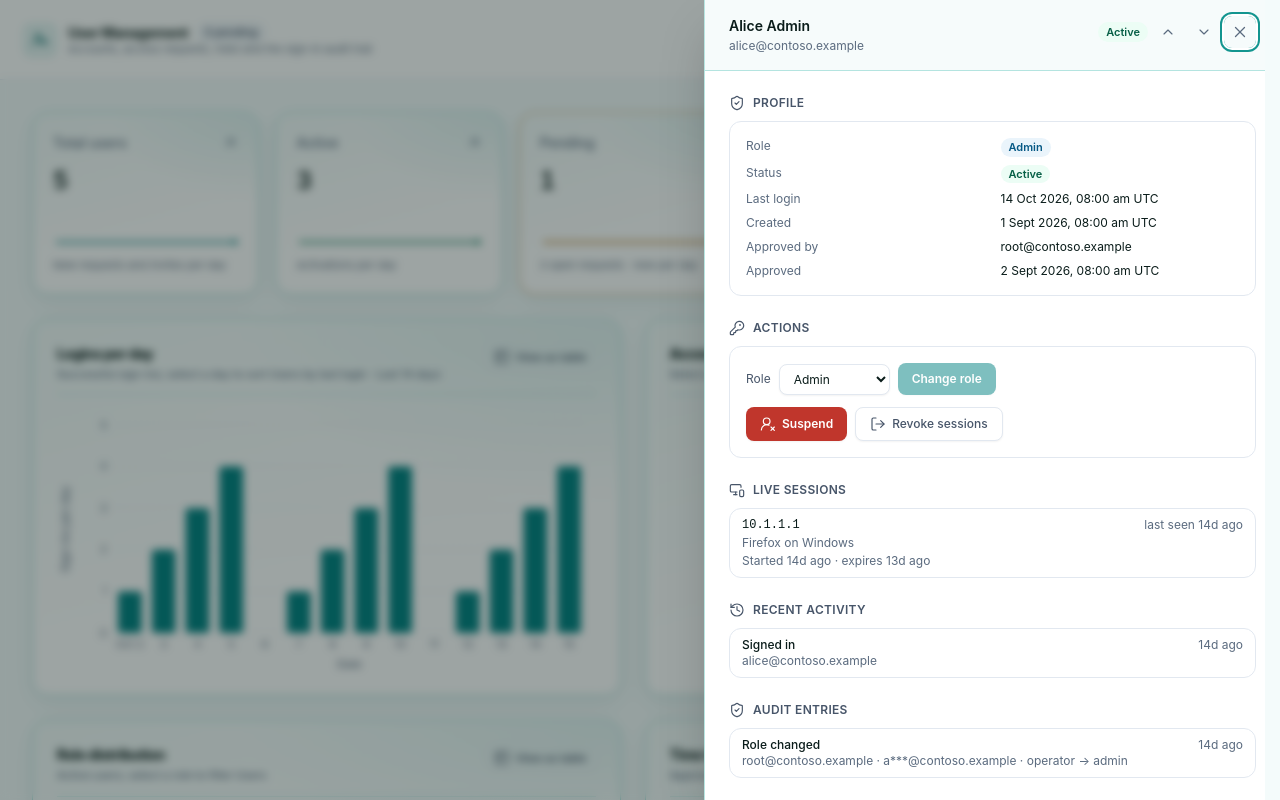
Test: Users tab › rolls back the optimistic change when the request fails
Click the button "Suspend" at (797, 424), box left=746, top=407, right=847, bottom=441
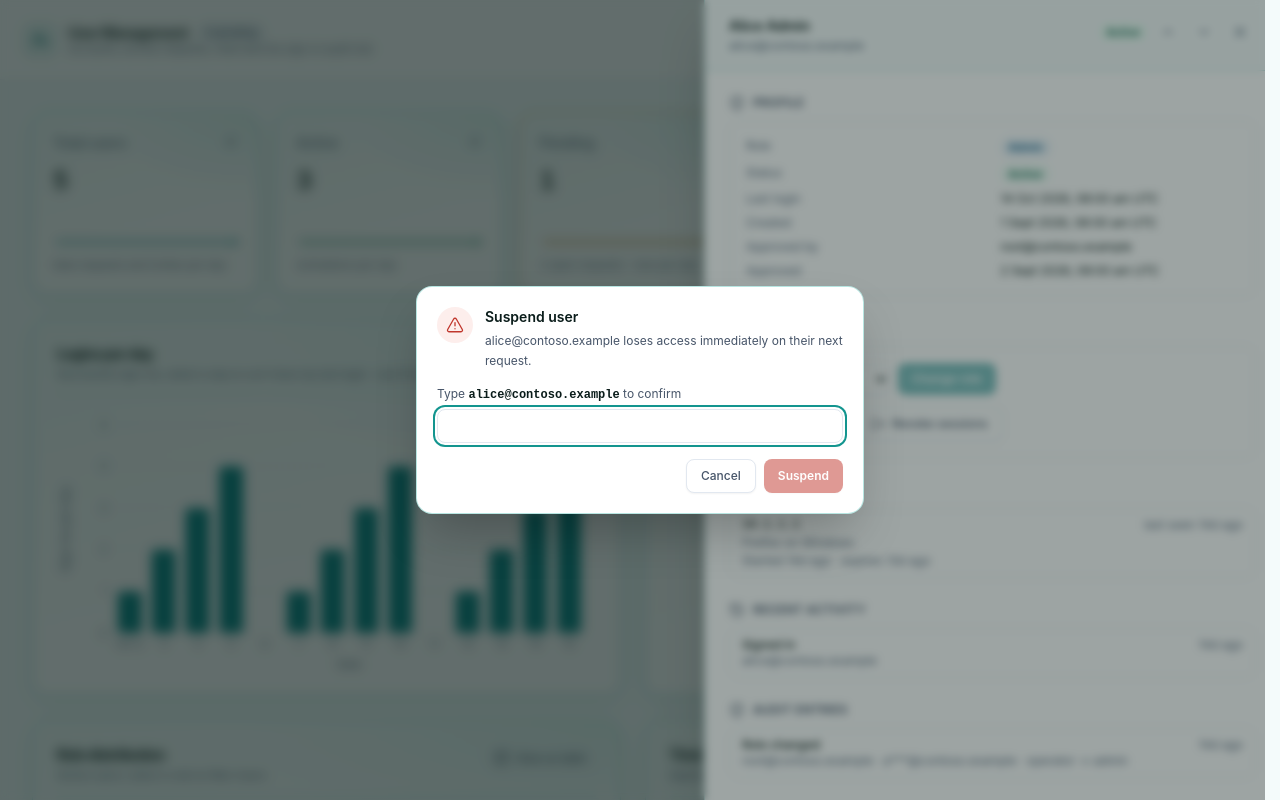
Now the button "Suspend" is disabled, box left=764, top=459, right=843, bottom=493
Type "alice@contoso.example" into the field at (640, 426), box left=437, top=409, right=843, bottom=443
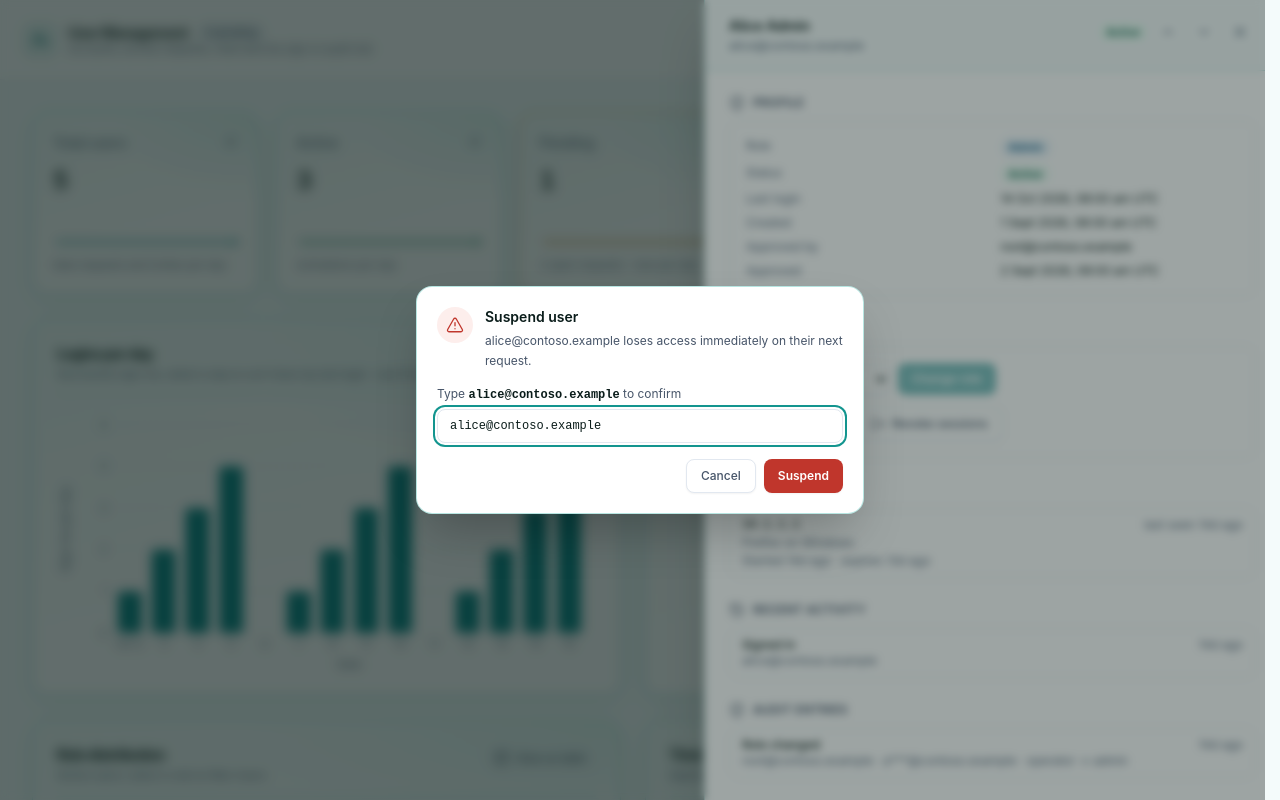
Click the button "Suspend" at (803, 476), box left=764, top=459, right=843, bottom=493
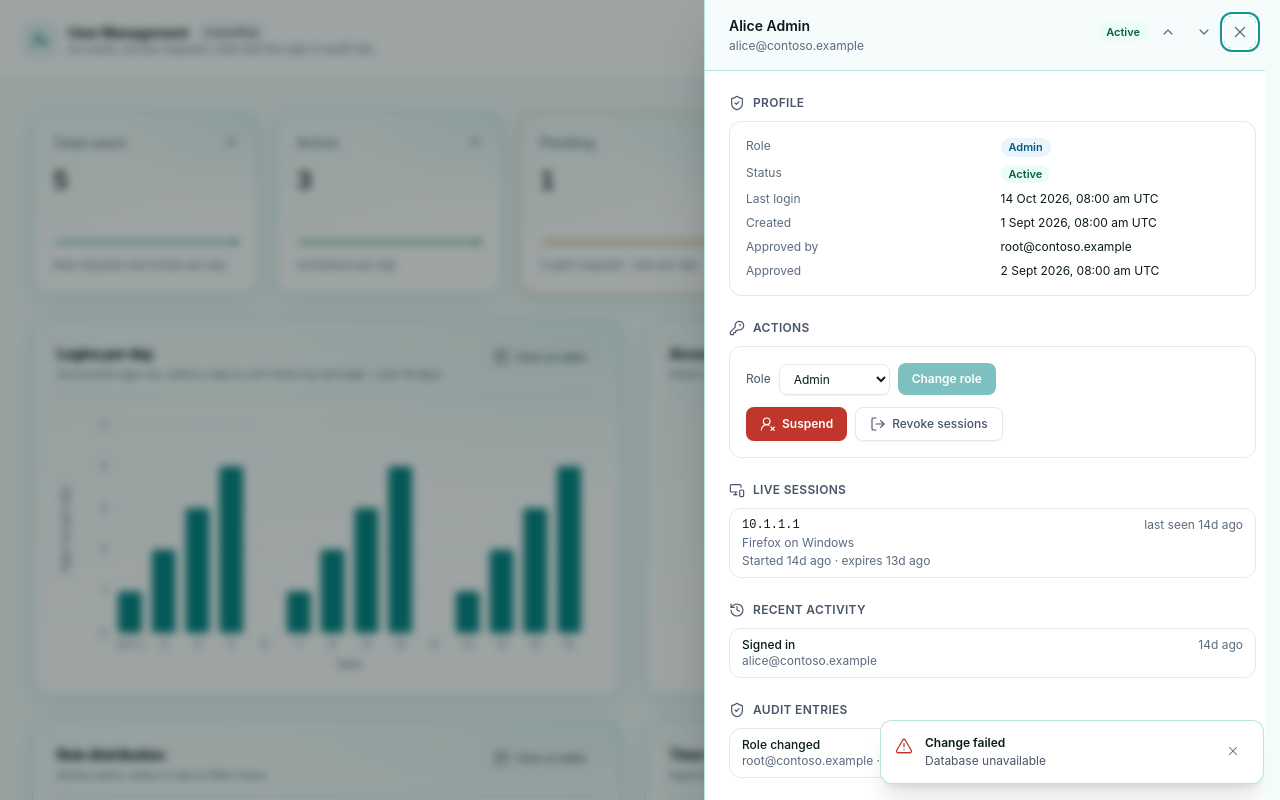
Now the text "Change failed" is shown, box left=925, top=735, right=1005, bottom=750
Now the text "Database unavailable" is shown, box left=925, top=753, right=1046, bottom=768
